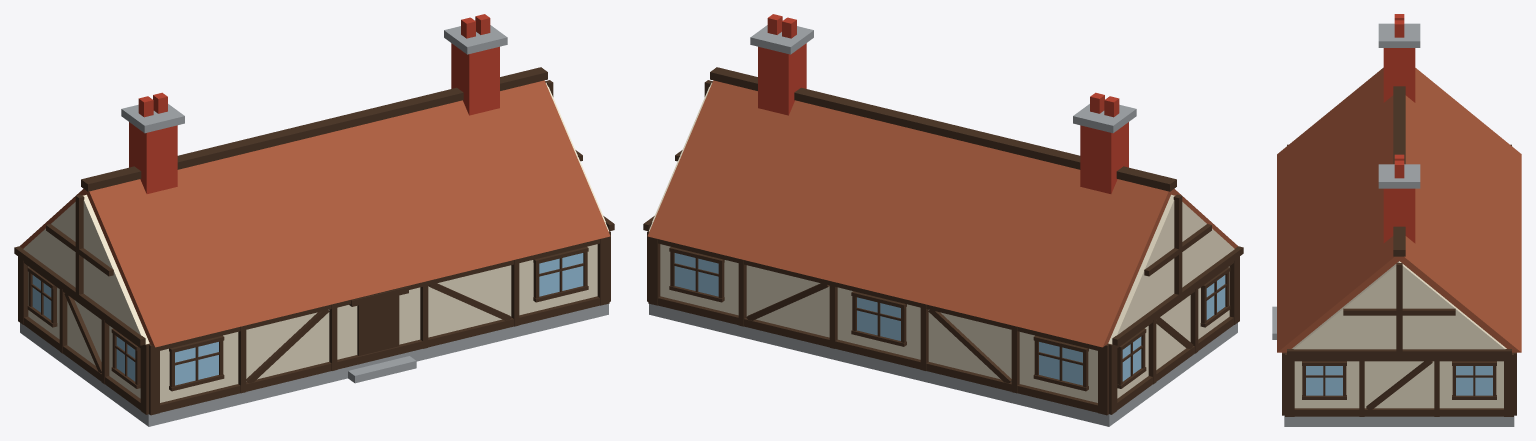
File: house-2x1-1f-tudor-a.glb
The picture shows the model from 3 angles, left to right: view 1: azimuth 30°, elevation 25°; view 2: azimuth 150°, elevation 25°; view 3: azimuth 270°, elevation 25°; orthographic projection. The views are drawn at different scales.
Parts seen in each view (by area): view 1: house-2x1-1f-tudor-a; view 2: house-2x1-1f-tudor-a; view 3: house-2x1-1f-tudor-a.
Part boxes in pixels (bbox=[...]): house-2x1-1f-tudor-a: bbox=[14, 14, 614, 426]; house-2x1-1f-tudor-a: bbox=[643, 14, 1243, 426]; house-2x1-1f-tudor-a: bbox=[1272, 14, 1521, 426].
Size of the model in its own units: 2 by 1.07 by 1.02.
1 material, 1 textured.
